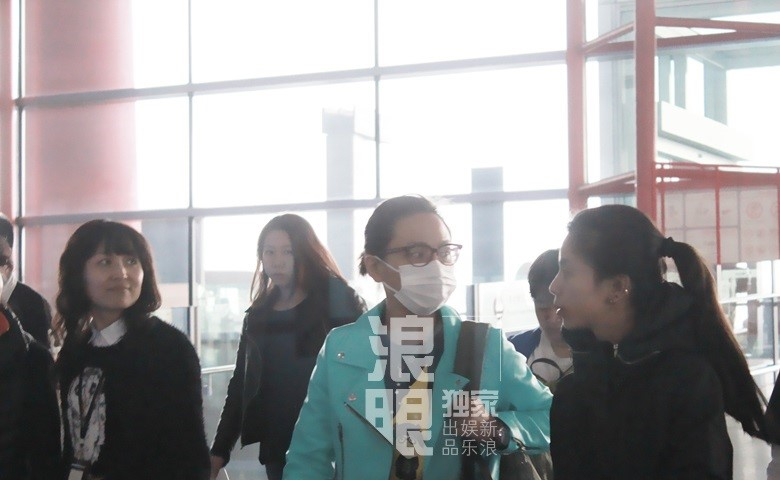face: (554, 245, 602, 326), (88, 245, 143, 310), (534, 286, 575, 336), (259, 233, 295, 284)
face_mask: (390, 221, 463, 312)
